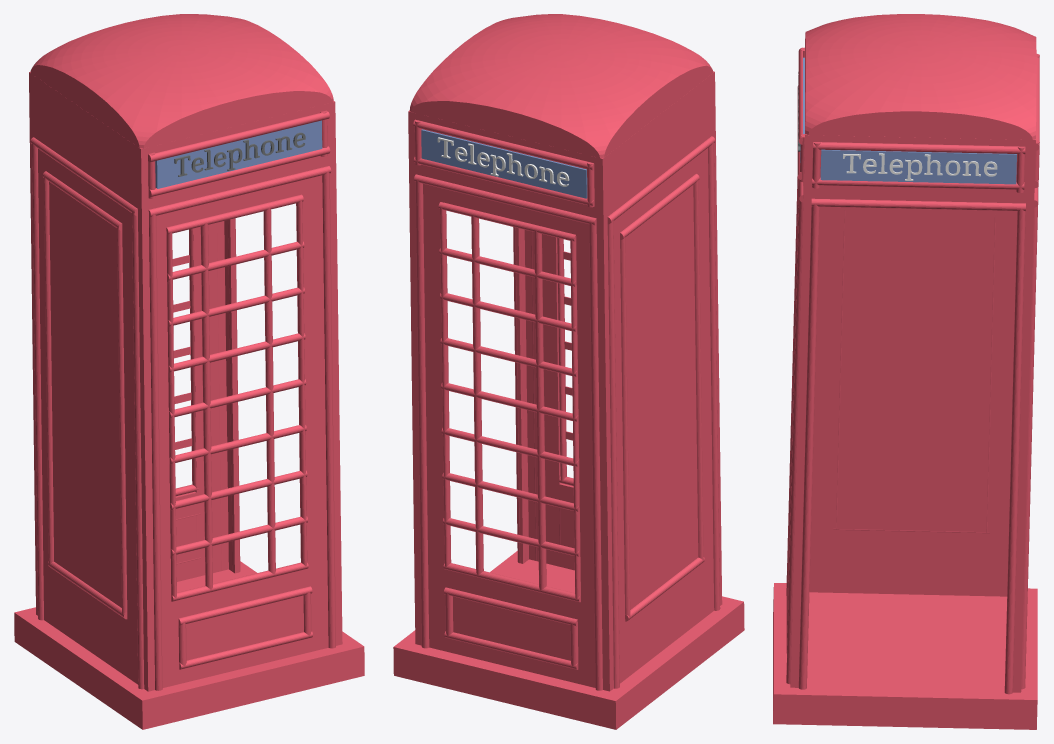
The model's file is telephone.fbx.
The picture shows the model from 3 angles, left to right: view 1: azimuth 30°, elevation 25°; view 2: azimuth 150°, elevation 25°; view 3: azimuth 270°, elevation 25°; orthographic projection. The views are drawn at different scales.
Parts seen in each view (by area): view 1: obj_0; view 2: obj_0; view 3: obj_0.
Boxes of the visible parts, x1=… form: obj_0: x1=14, y1=14, x2=364, y2=729; obj_0: x1=393, y1=14, x2=744, y2=729; obj_0: x1=773, y1=14, x2=1039, y2=729.
Bounding box in the file's own units: 800 × 2085 × 809.
